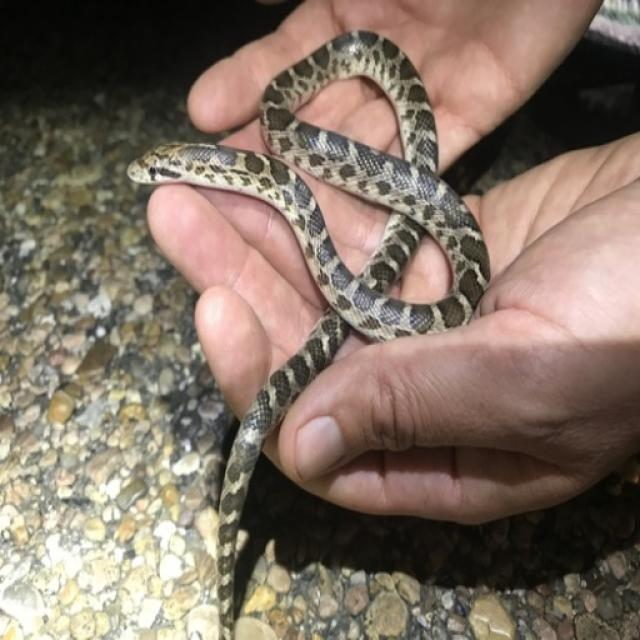snake: (104, 25, 498, 640)
